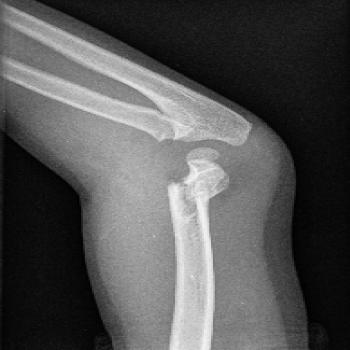Fracture: (151, 127, 217, 199)
